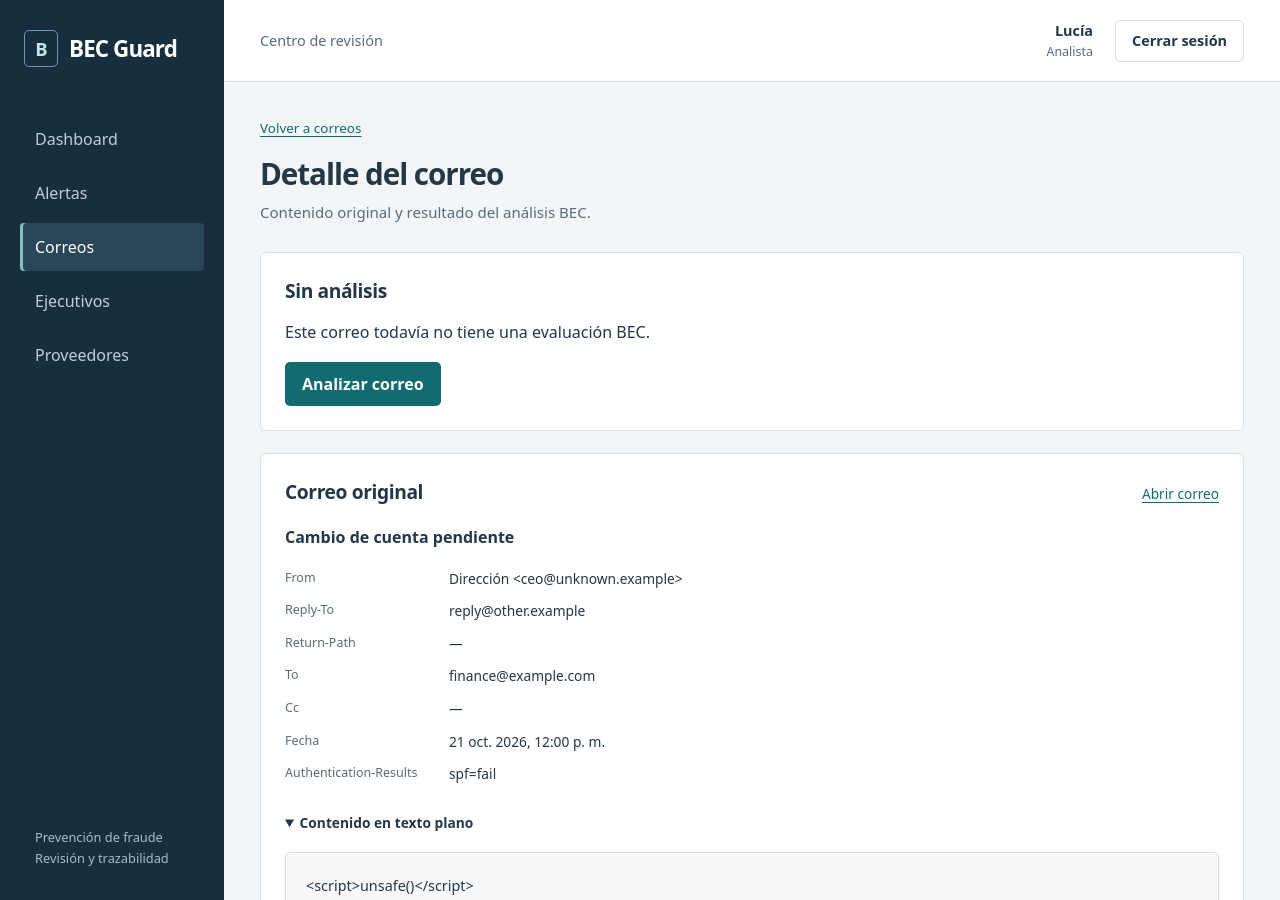
Test: provider ERROR is displayed after manual attempt
Click the button "Analizar correo": (363, 384) [285,362,441,406]
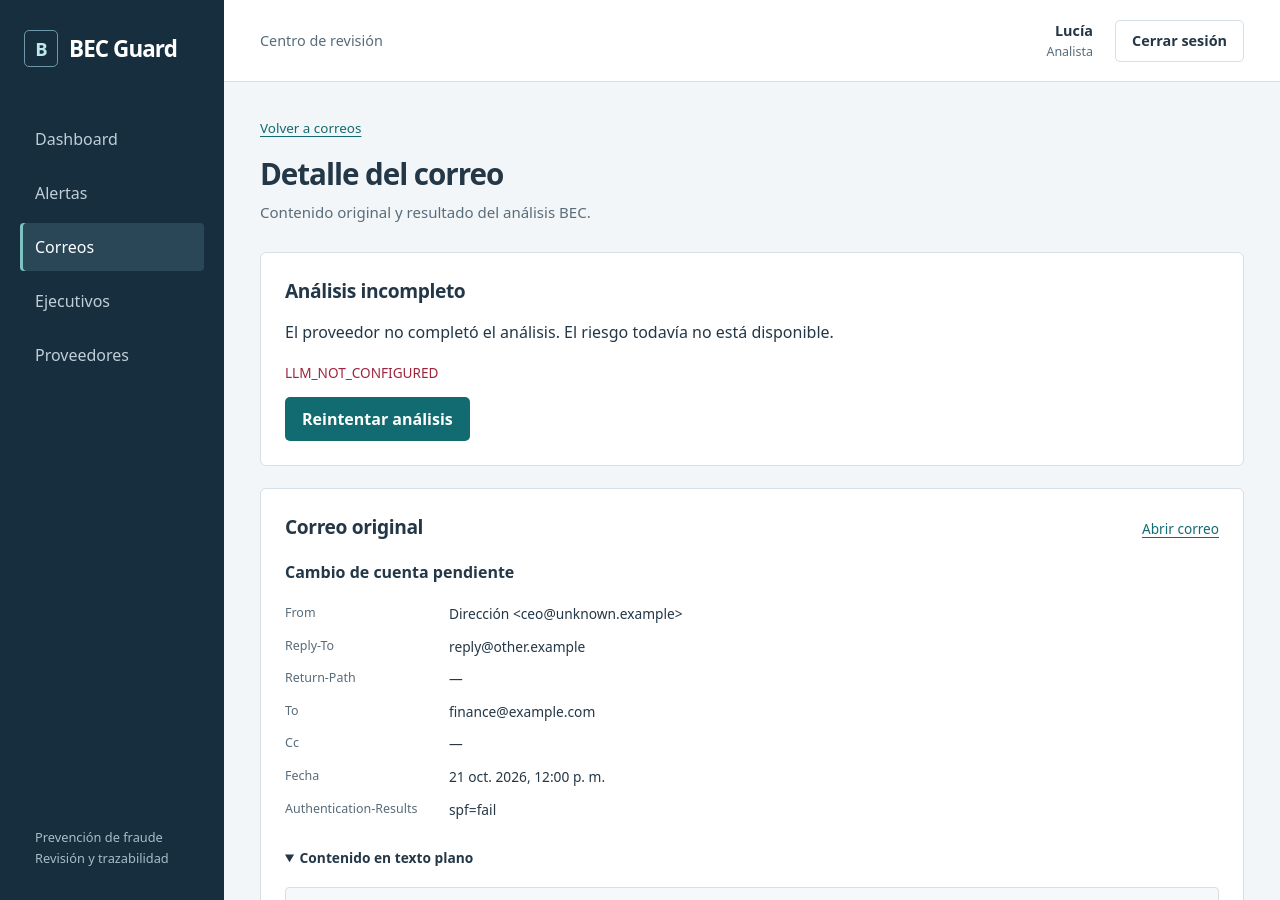
Check: the text "LLM_NOT_CONFIGURED" is shown, box [285,363,438,382]
